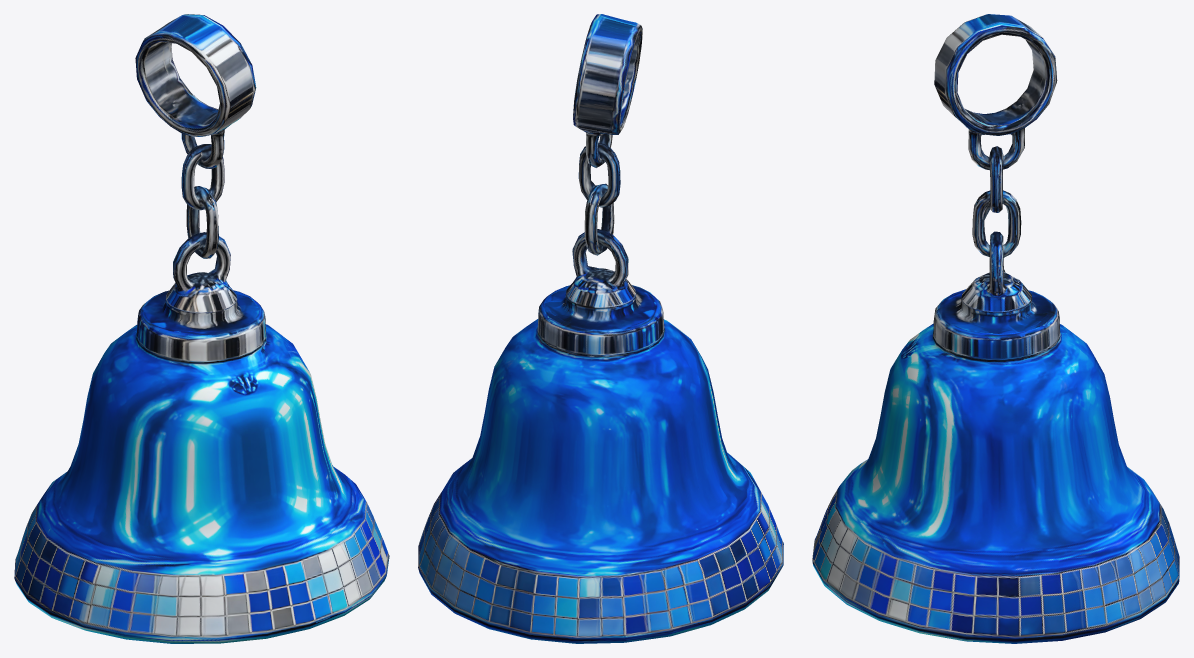
File: tripo_convert_b3e6daa7-b230-468b-930e-41c9f81fa47b.fbx
The picture shows the model from 3 angles, left to right: view 1: azimuth 30°, elevation 25°; view 2: azimuth 150°, elevation 25°; view 3: azimuth 270°, elevation 25°; orthographic projection. The views are drawn at different scales.
Visible parts, largest first — view 1: tripo_node_b3e6daa7; view 2: tripo_node_b3e6daa7; view 3: tripo_node_b3e6daa7.
Boxes of the visible parts, box(x1,y1,x2,y2) form: tripo_node_b3e6daa7: box(14, 14, 389, 643); tripo_node_b3e6daa7: box(418, 14, 783, 643); tripo_node_b3e6daa7: box(812, 14, 1179, 643).
Bounding box in the file's own units: 0.5646 × 0.9778 × 0.5612.
1 material, 1 textured.
